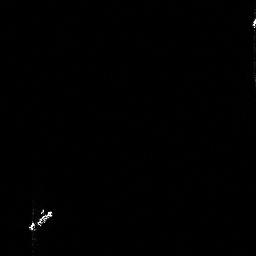ship: (25, 204, 58, 234)
